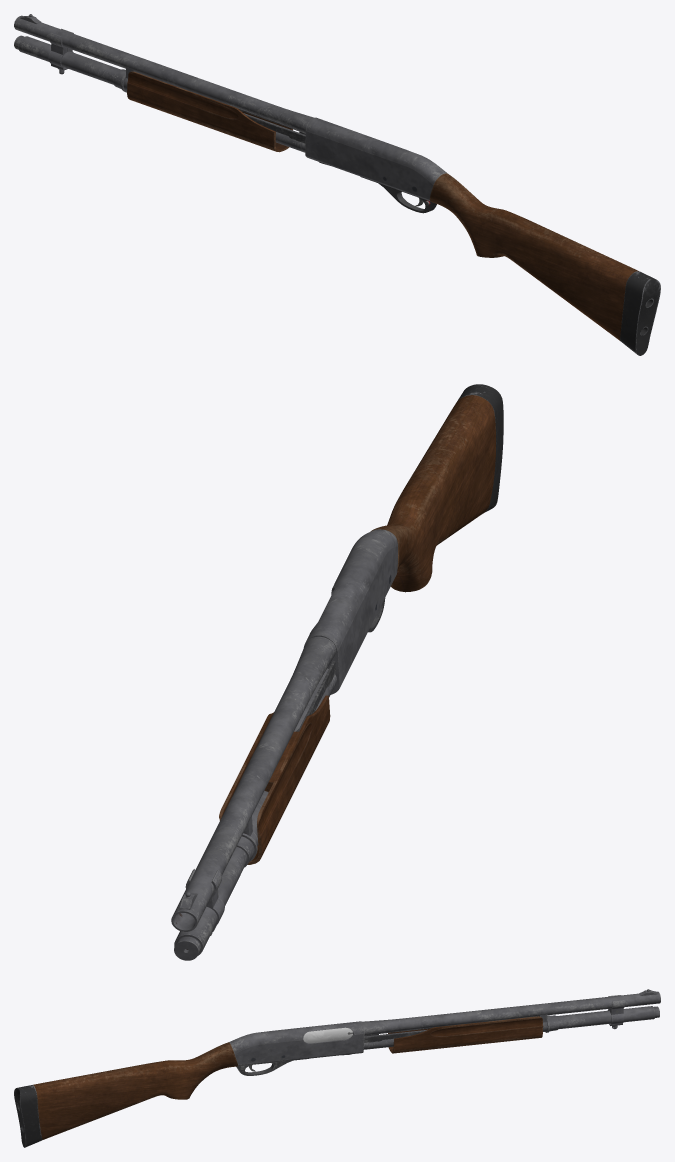
The model's file is shotgun.glb.
3 views of the same model, one above another, from view 1: azimuth 30°, elevation 25°; view 2: azimuth 150°, elevation 25°; view 3: azimuth 270°, elevation 25° (orthographic). The views are drawn at different scales.
Parts seen in each view (by area): view 1: StockWood_Lp__0, Barrel_Lp, Body_Lp__0, Grip_Lp__0, StockPlastic_Lp__0, BarrelHolder_Lp, BarrelPump_Lp__0; view 2: StockWood_Lp__0, Barrel_Lp, Body_Lp__0, Grip_Lp__0, StockPlastic_Lp__0; view 3: StockWood_Lp__0, Barrel_Lp, Body_Lp__0, Grip_Lp__0, StockPlastic_Lp__0, EjectorTop_Lp, BarrelPump_Lp__0, BarrelHolder_Lp, Triggerholder_Lp__0.
Boxes of the visible parts, bbox=[...] form: StockWood_Lp__0: bbox=[429, 173, 638, 340]; Barrel_Lp: bbox=[14, 14, 313, 152]; Body_Lp__0: bbox=[305, 117, 447, 200]; Grip_Lp__0: bbox=[127, 71, 292, 152]; StockPlastic_Lp__0: bbox=[620, 271, 660, 355]; BarrelHolder_Lp: bbox=[48, 28, 73, 74]; BarrelPump_Lp__0: bbox=[239, 109, 305, 143]; StockWood_Lp__0: bbox=[370, 395, 495, 592]; Barrel_Lp: bbox=[171, 636, 336, 960]; Body_Lp__0: bbox=[303, 529, 397, 694]; Grip_Lp__0: bbox=[219, 695, 330, 864]; StockPlastic_Lp__0: bbox=[457, 384, 503, 512]; StockWood_Lp__0: bbox=[33, 1042, 238, 1139]; Barrel_Lp: bbox=[362, 989, 660, 1049]; Body_Lp__0: bbox=[229, 1021, 364, 1065]; Grip_Lp__0: bbox=[388, 1016, 543, 1053]; StockPlastic_Lp__0: bbox=[14, 1085, 42, 1147]; EjectorTop_Lp: bbox=[303, 1027, 352, 1043]; BarrelPump_Lp__0: bbox=[364, 1027, 432, 1042]; BarrelHolder_Lp: bbox=[608, 995, 624, 1029]; Triggerholder_Lp__0: bbox=[236, 1058, 308, 1075].
Size of the model in its own units: 1 by 0.4358 by 3.01.
1 material, 1 textured.
